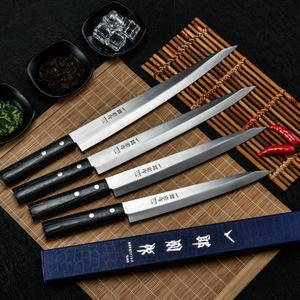knife: (5, 39, 283, 243)
